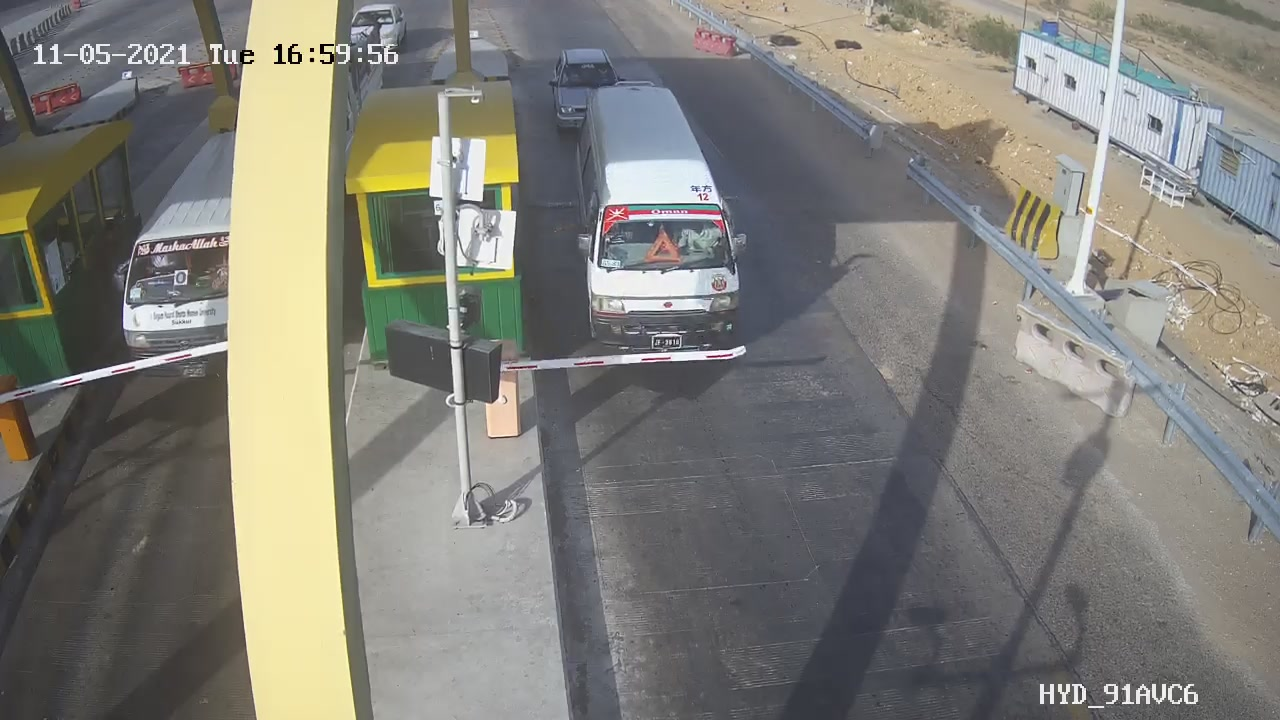F2: (551, 62, 772, 383)
